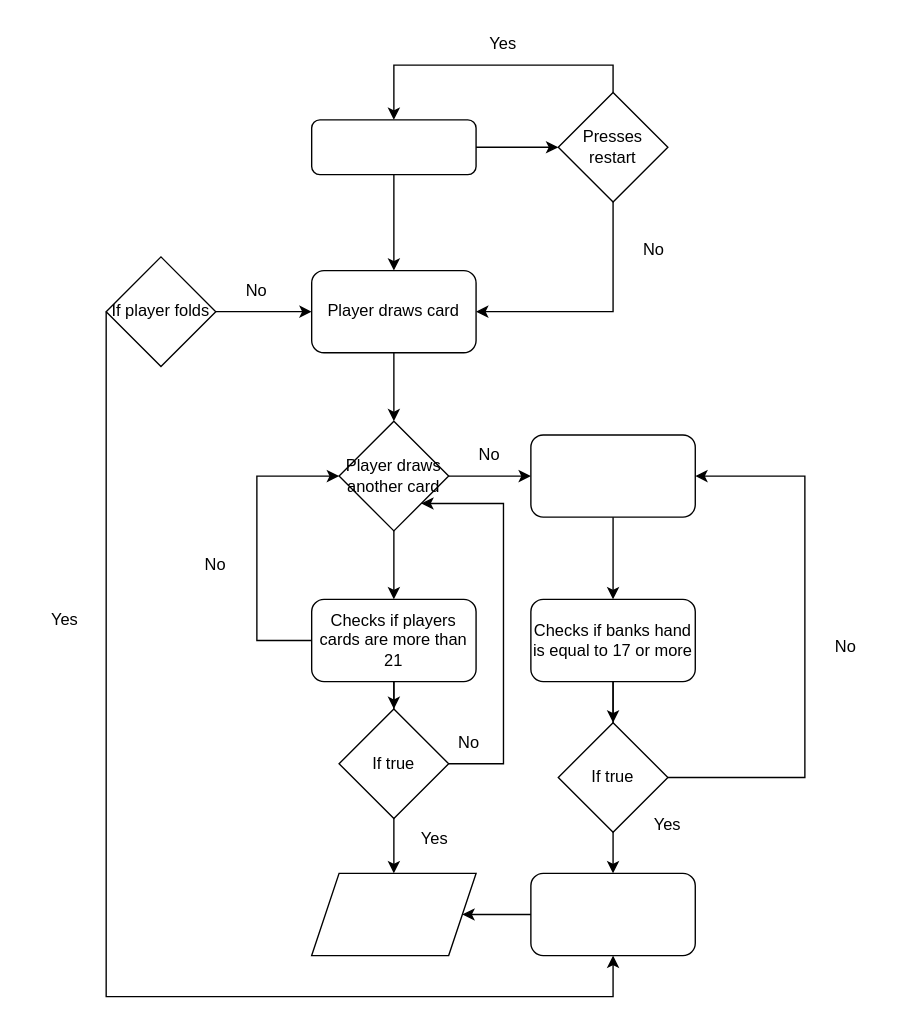
Some shapes in this 910 by 1032 pixel diagram are drawn without their labels. Here are the shapes that lost their labels. From the top down, the centre of each, then its label:
the point at 393,147: Start the game
the point at 612,475: Bank draws cards until it reaches 17 or more
the point at 393,914: Displays message
the point at 612,914: Calculates the winner
